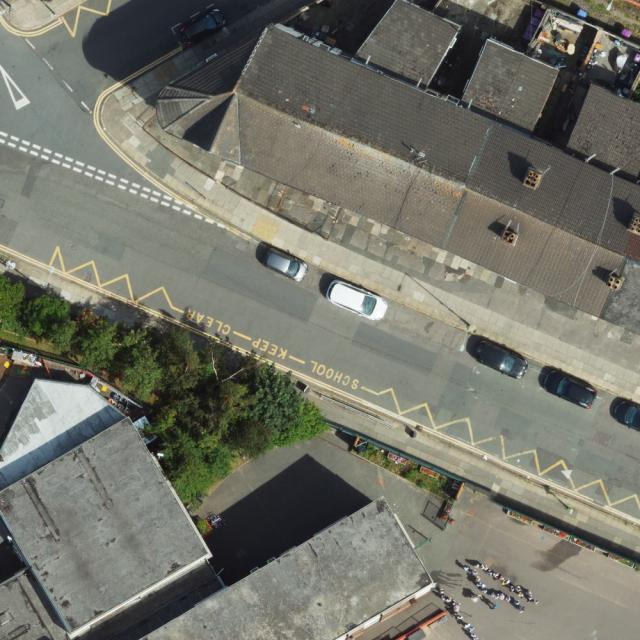roof: (154, 0, 640, 337), (0, 379, 212, 639), (138, 496, 435, 640)
